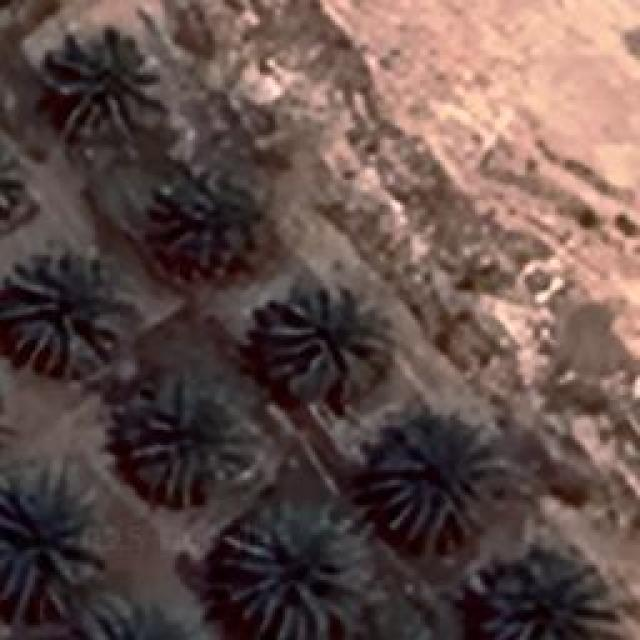PalmTree: (98, 95, 143, 620), (220, 507, 355, 635), (123, 380, 250, 505), (2, 250, 130, 372), (365, 424, 480, 548), (143, 39, 210, 226), (0, 475, 95, 603), (50, 30, 158, 138), (264, 288, 388, 382), (480, 560, 615, 638), (338, 611, 456, 640), (0, 130, 23, 234)
